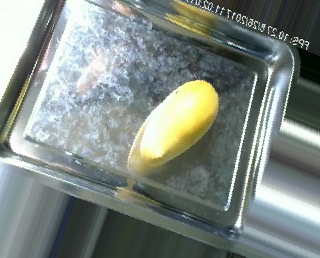Mango: (137, 77, 218, 169)
